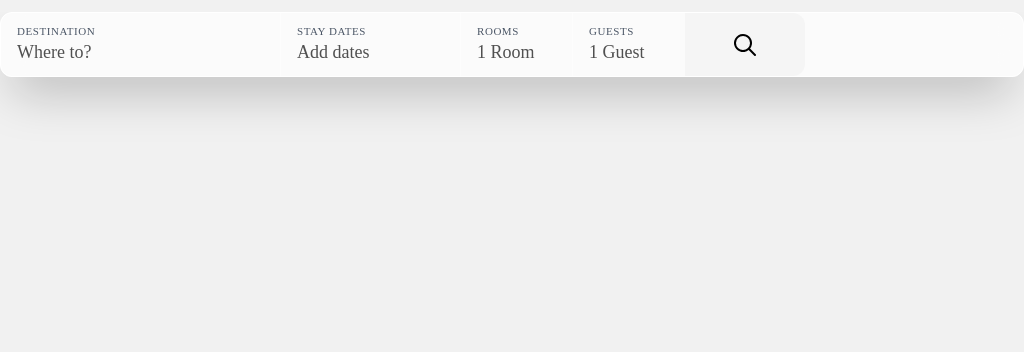
it: SearchBarHome Component Tests › allows user to open guest counter and adjust rooms and guests
This screenshot has width=1024, height=352.
Click the button "ROOMS 1 Room GUESTS 1 Guest" at [573, 44], box [461,13,685,76]
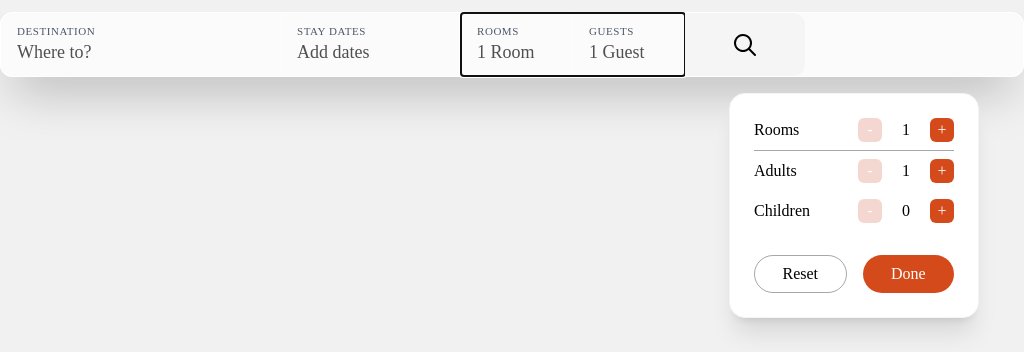
Expected: the text "Rooms" is shown, [754,118,799,142]
Expected: the text "Adults" is shown, [754,159,797,183]
Expected: the text "Children" is shown, [754,199,810,223]
Click the 1st button "+" at [942, 130], box [930,118,954,142]
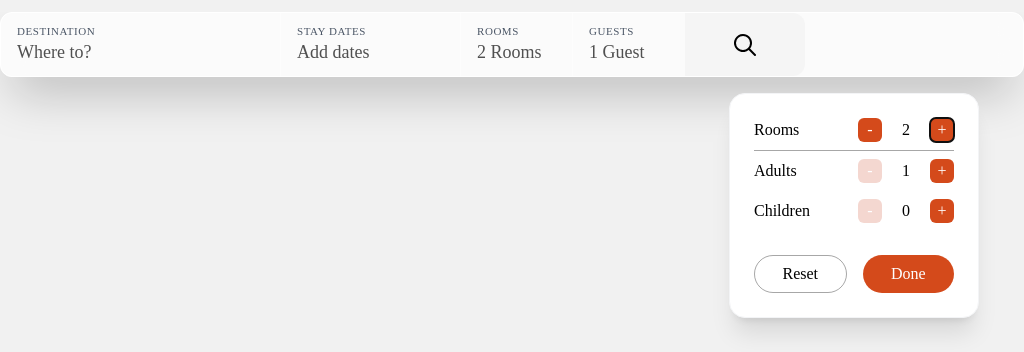
Click the button "+" in the row of "Adults" at [942, 171], box [930,159,954,183]
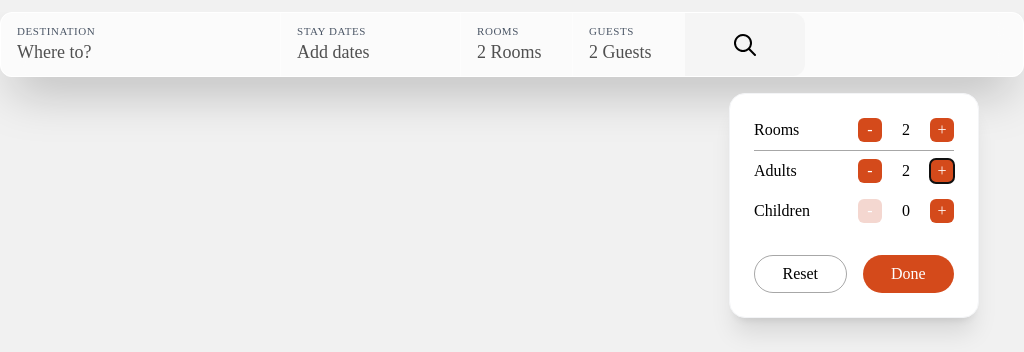
Expected: the text "2 Rooms" is shown, [477,42,542,62]
Expected: the text "2 Guests" is shown, [589,42,652,62]
Note: Reset counts
Click the button "Reset" at [800, 274], box [754,255,846,293]
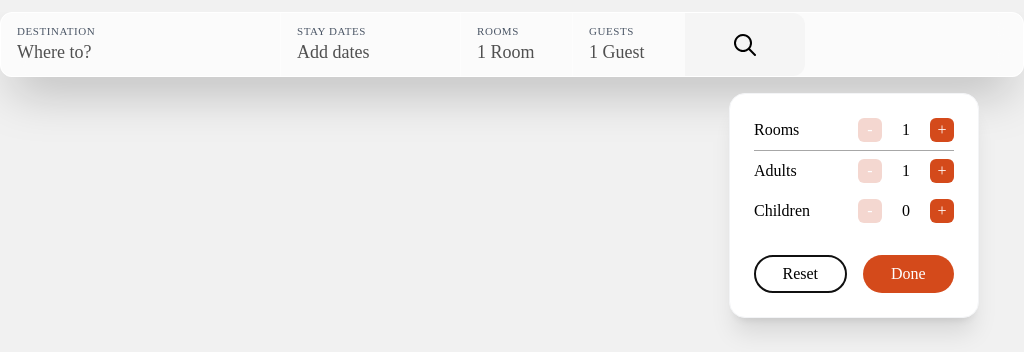
Expected: the text "1 Room" is shown, [477,42,534,62]
Expected: the text "1 Guest" is shown, [589,42,644,62]
